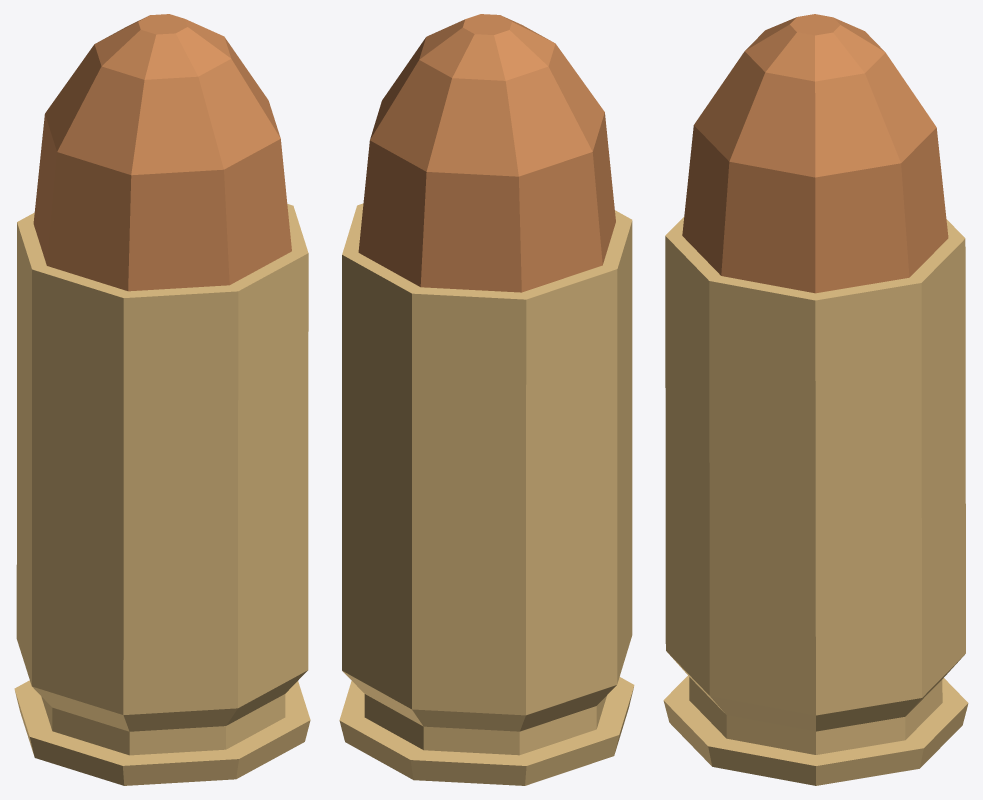
3 renders of one model, left to right at view 1: azimuth 30°, elevation 25°; view 2: azimuth 150°, elevation 25°; view 3: azimuth 270°, elevation 25°, orthographic.
Visible parts, largest first — view 1: 9x19mm_Glock19.002_Cube.001; view 2: 9x19mm_Glock19.002_Cube.001; view 3: 9x19mm_Glock19.002_Cube.001.
Part boxes in pixels (x1=…): 9x19mm_Glock19.002_Cube.001: x1=14, y1=14, x2=310, y2=785; 9x19mm_Glock19.002_Cube.001: x1=339, y1=14, x2=634, y2=785; 9x19mm_Glock19.002_Cube.001: x1=663, y1=14, x2=968, y2=785.
Size of the model in its own units: 0.131 by 0.3319 by 0.1309.
